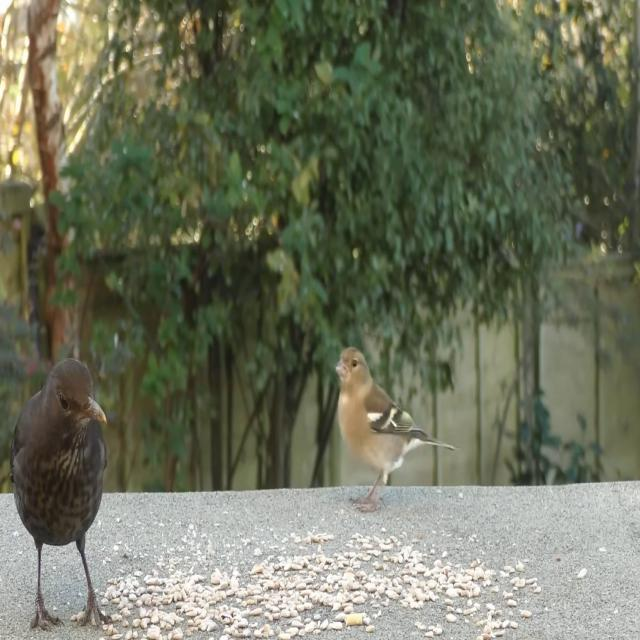beak: (83, 394, 109, 426), (334, 356, 346, 379)
bird: (10, 356, 118, 639), (332, 342, 456, 508)
